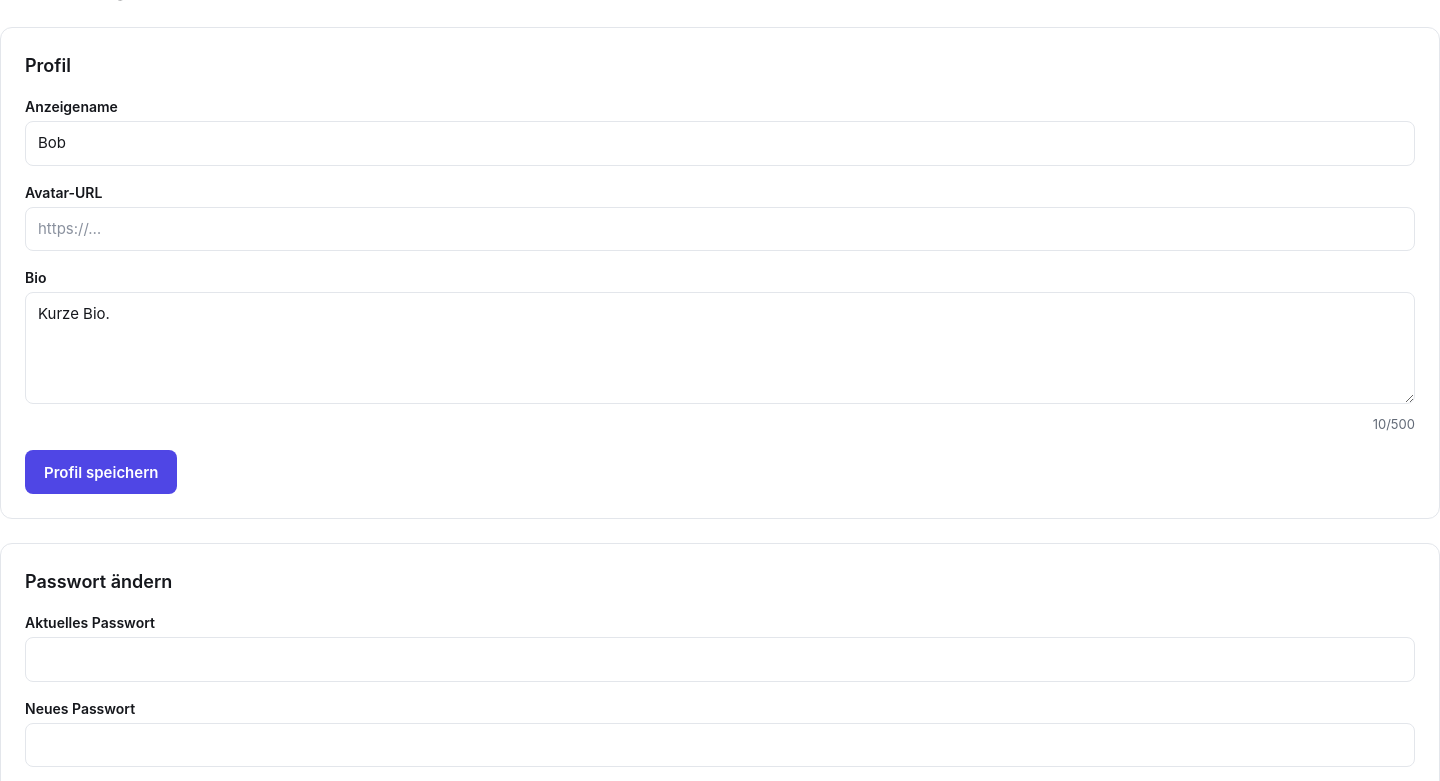
SettingsPage › shows the server's wrong-password error while an untouched form stays neutral
Expected: the text "Das aktuelle Passwort ist falsch." is not shown
Type "falschesPasswort" into the password field labelled "Aktuelles Passwort". click: (720, 659)
box: x1=25 y1=637 x2=1415 y2=682
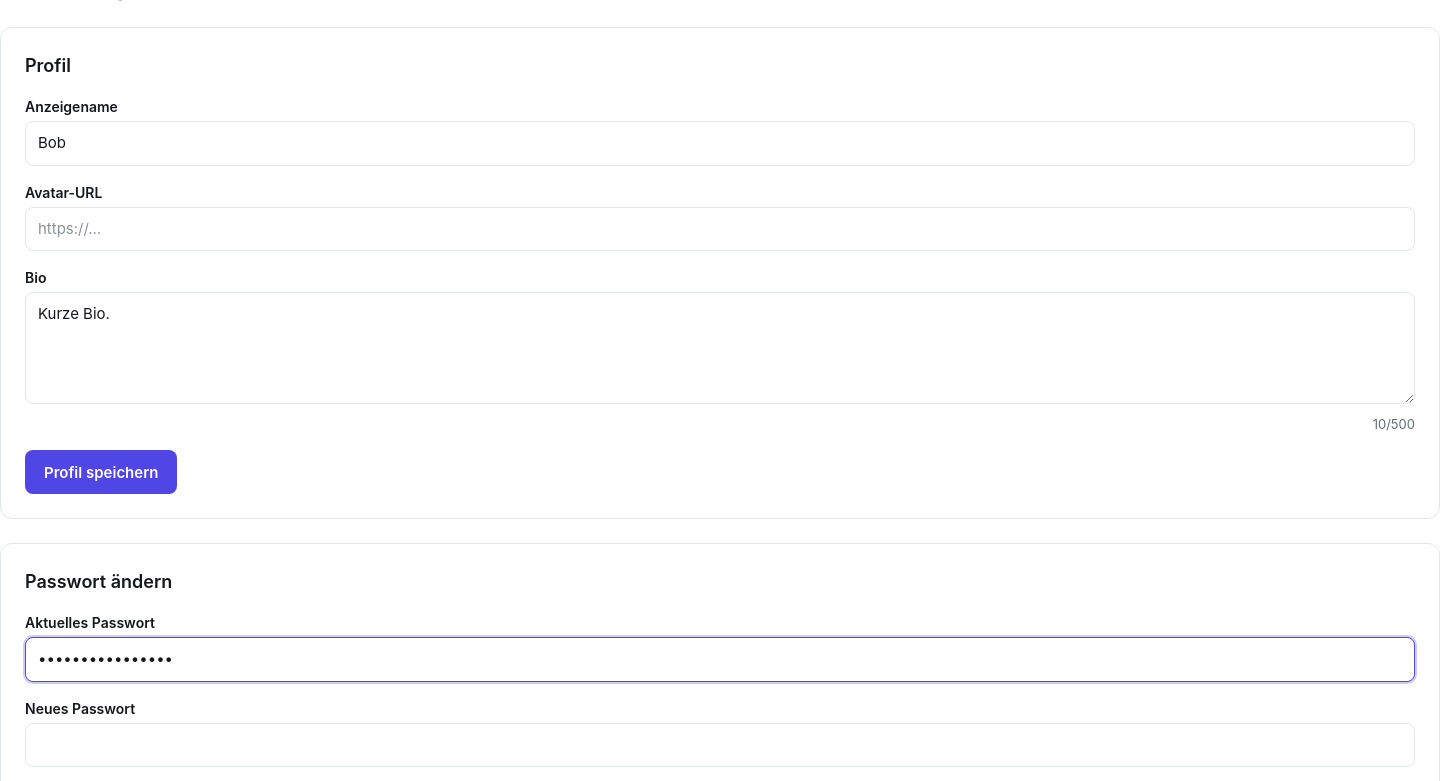
Type "GanzNeu123!abc" into the password field labelled "Neues Passwort". click: (720, 745)
box: x1=25 y1=722 x2=1415 y2=767
(page scrolled)
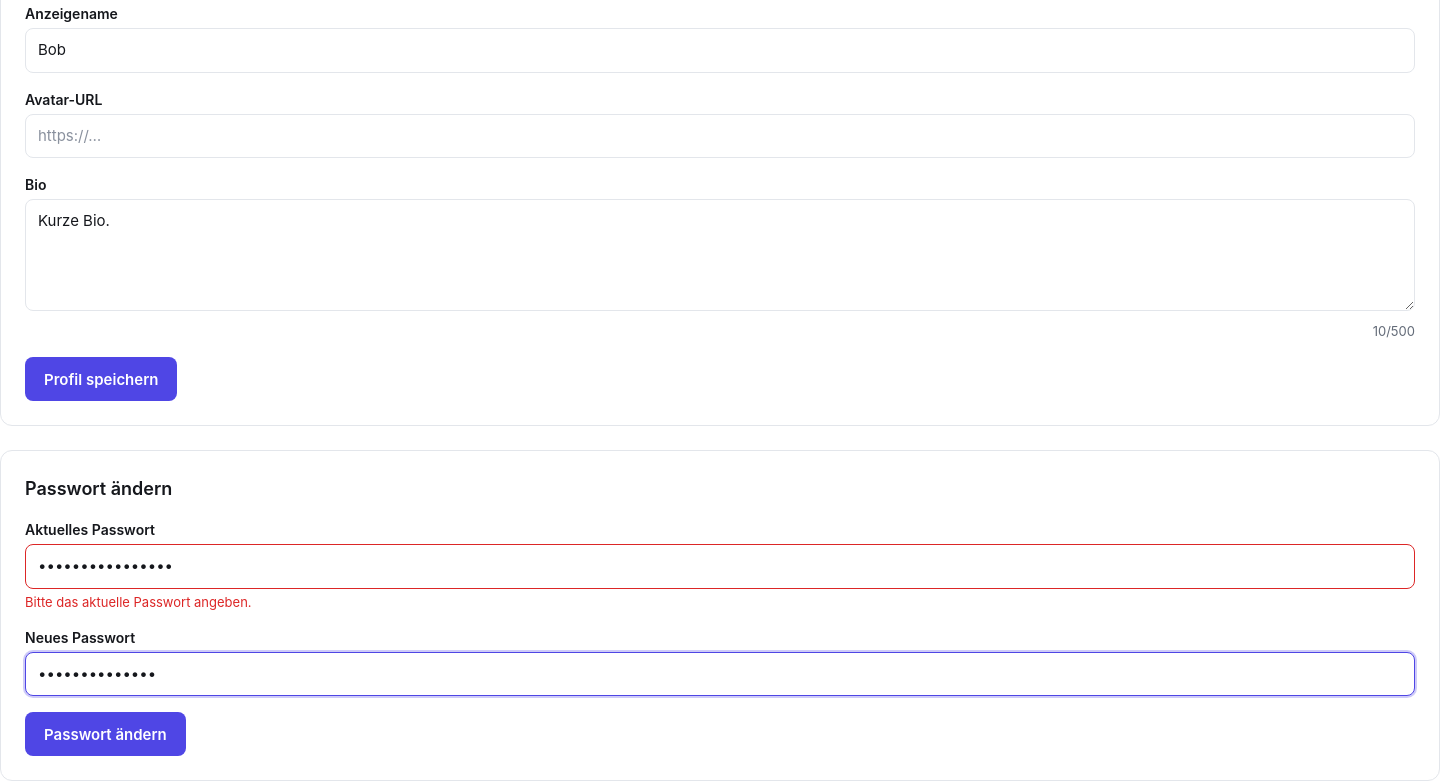
Click the button "Passwort ändern". click: (105, 734)
box: x1=25 y1=712 x2=186 y2=756
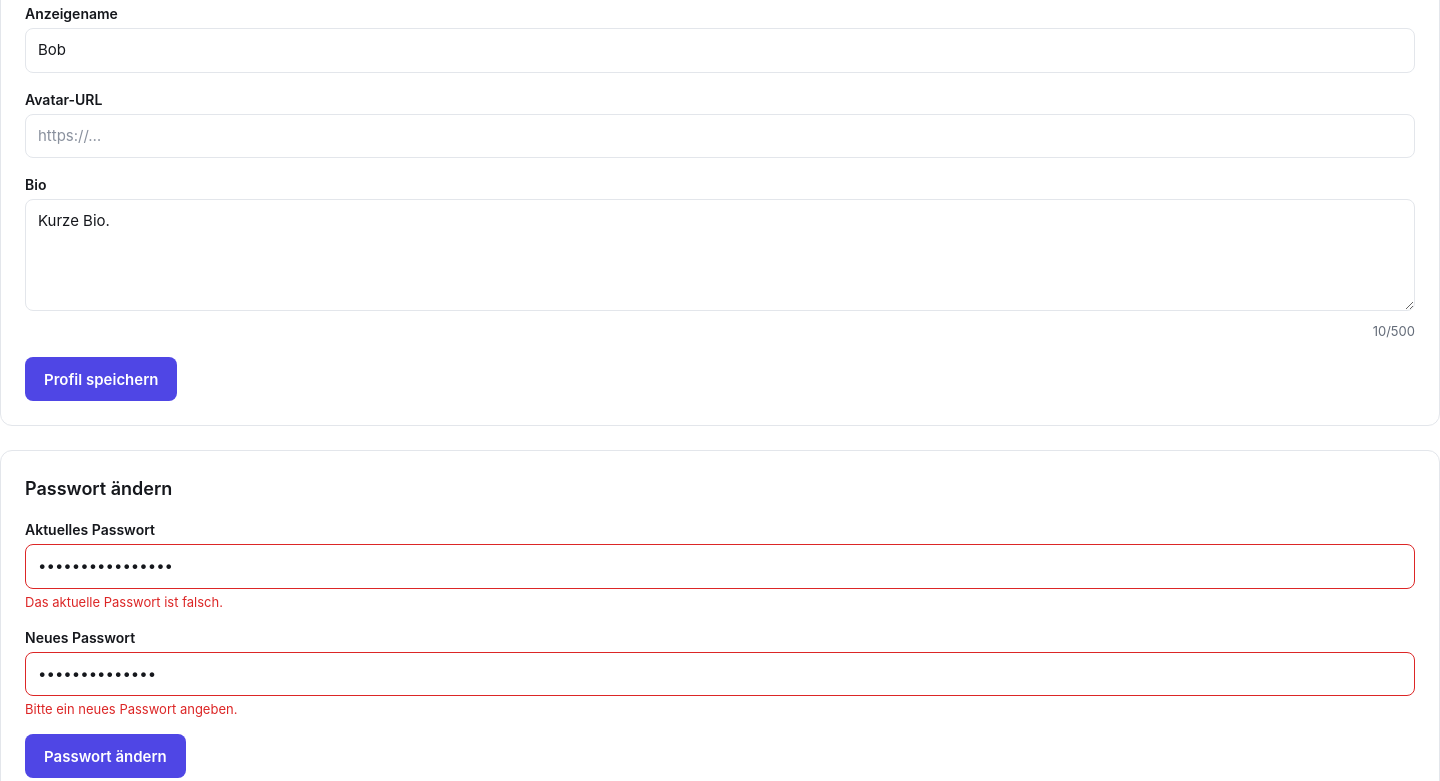
Expected: the text "Das aktuelle Passwort ist falsch." is shown, x1=25 y1=594 x2=223 y2=610
